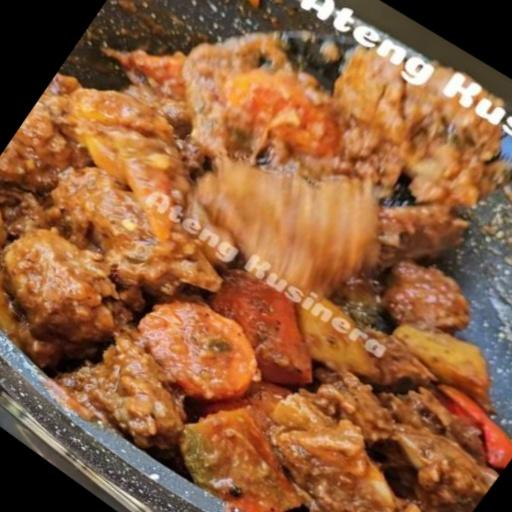pork caldereta: (0, 35, 508, 511)
